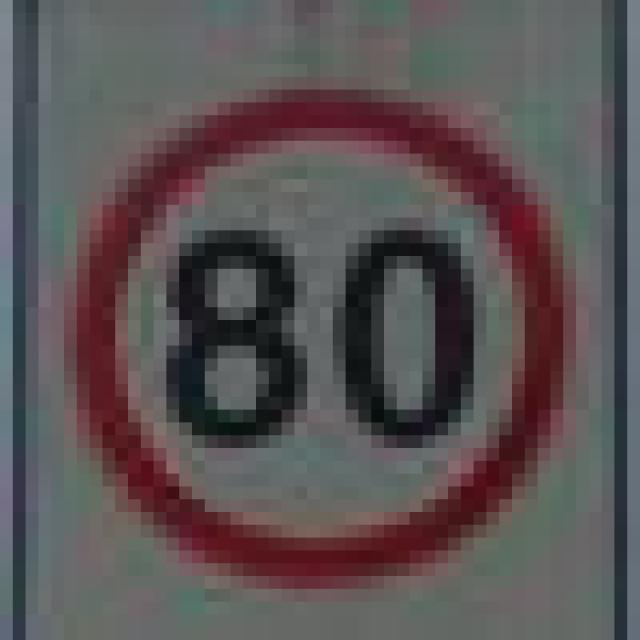speed_limit_50: (51, 77, 563, 576)
